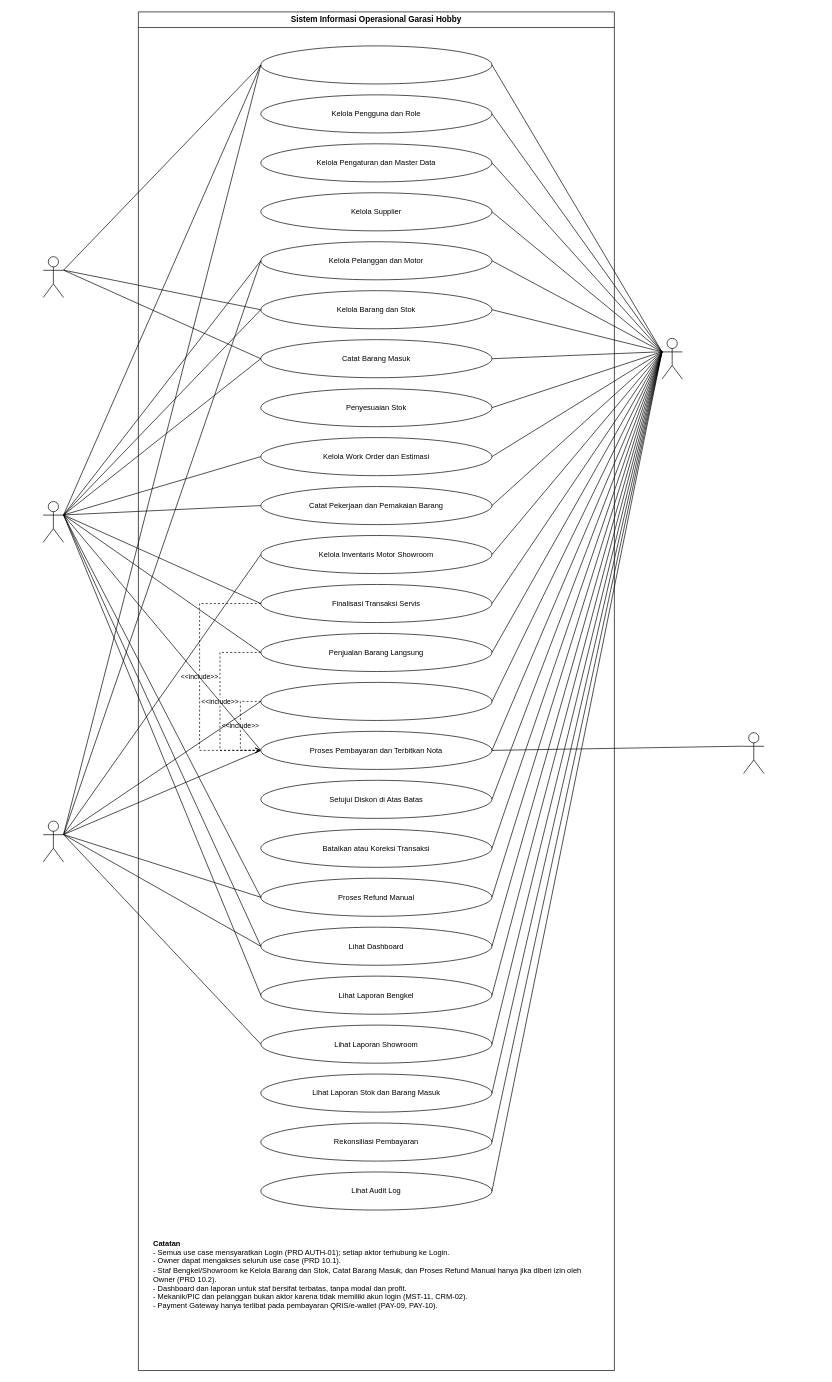
This 832x1382 diagram has some shape labels left out. Each missing label, with the centre of its shape:
Finalisasi Penjualan Motor: the point at 376,701
Login: the point at 376,64
Owner: the point at 671,358
Payment Gateway (sistem eksternal): the point at 753,753
Staf Bengkel: the point at 53,521
Staf Gudang (opsional): the point at 53,277
Staf Showroom: the point at 53,841
